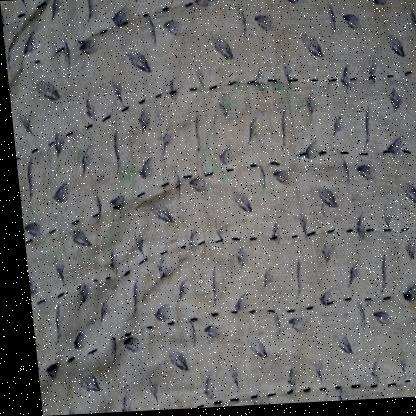spot: (189, 63, 325, 205), (95, 161, 145, 260), (37, 135, 90, 196), (263, 0, 299, 64), (383, 250, 416, 316), (361, 0, 409, 43), (20, 213, 60, 262), (120, 4, 151, 44)
